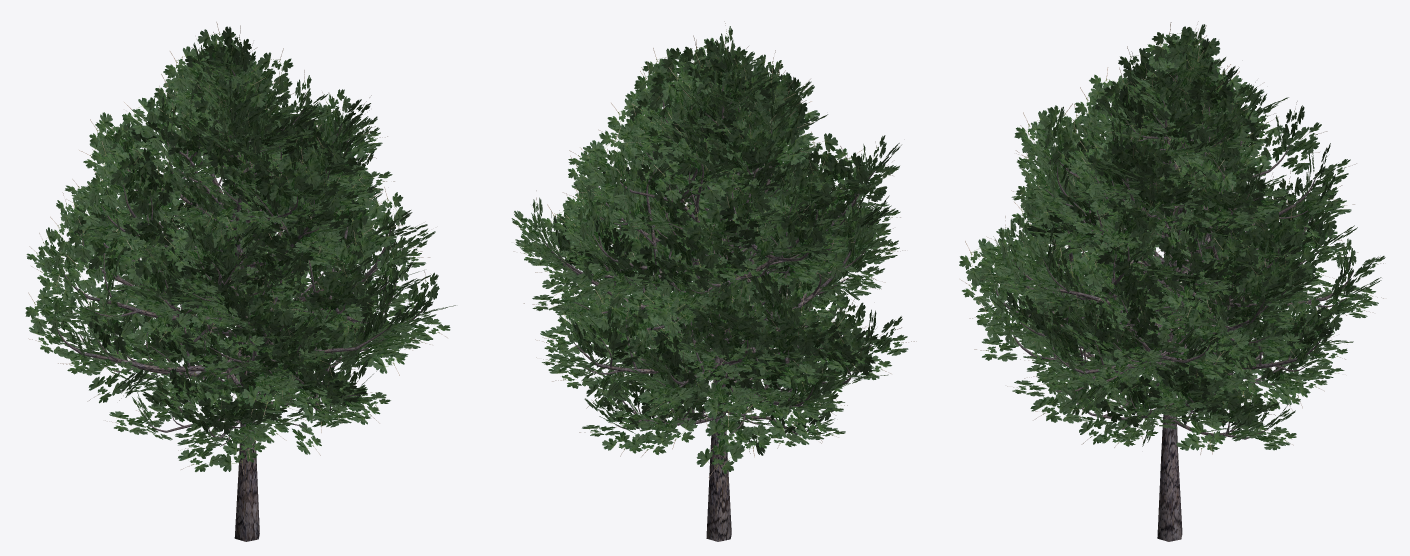
File: tree02.obj
3 renders of one model, left to right at view 1: azimuth 30°, elevation 25°; view 2: azimuth 150°, elevation 25°; view 3: azimuth 270°, elevation 25°, orthographic.
Visible parts, largest first — view 1: leaves, tree; view 2: leaves, tree; view 3: leaves, tree.
Part boxes in pixels (x1=…): leaves: x1=25, y1=22, x2=455, y2=474; tree: x1=57, y1=66, x2=422, y2=541; leaves: x1=511, y1=21, x2=916, y2=477; tree: x1=545, y1=86, x2=875, y2=541; leaves: x1=959, y1=21, x2=1385, y2=454; tree: x1=994, y1=67, x2=1353, y2=541.
Bounding box in the file's own units: 1.89 × 2.49 × 1.97.
2 materials, 2 textured.
